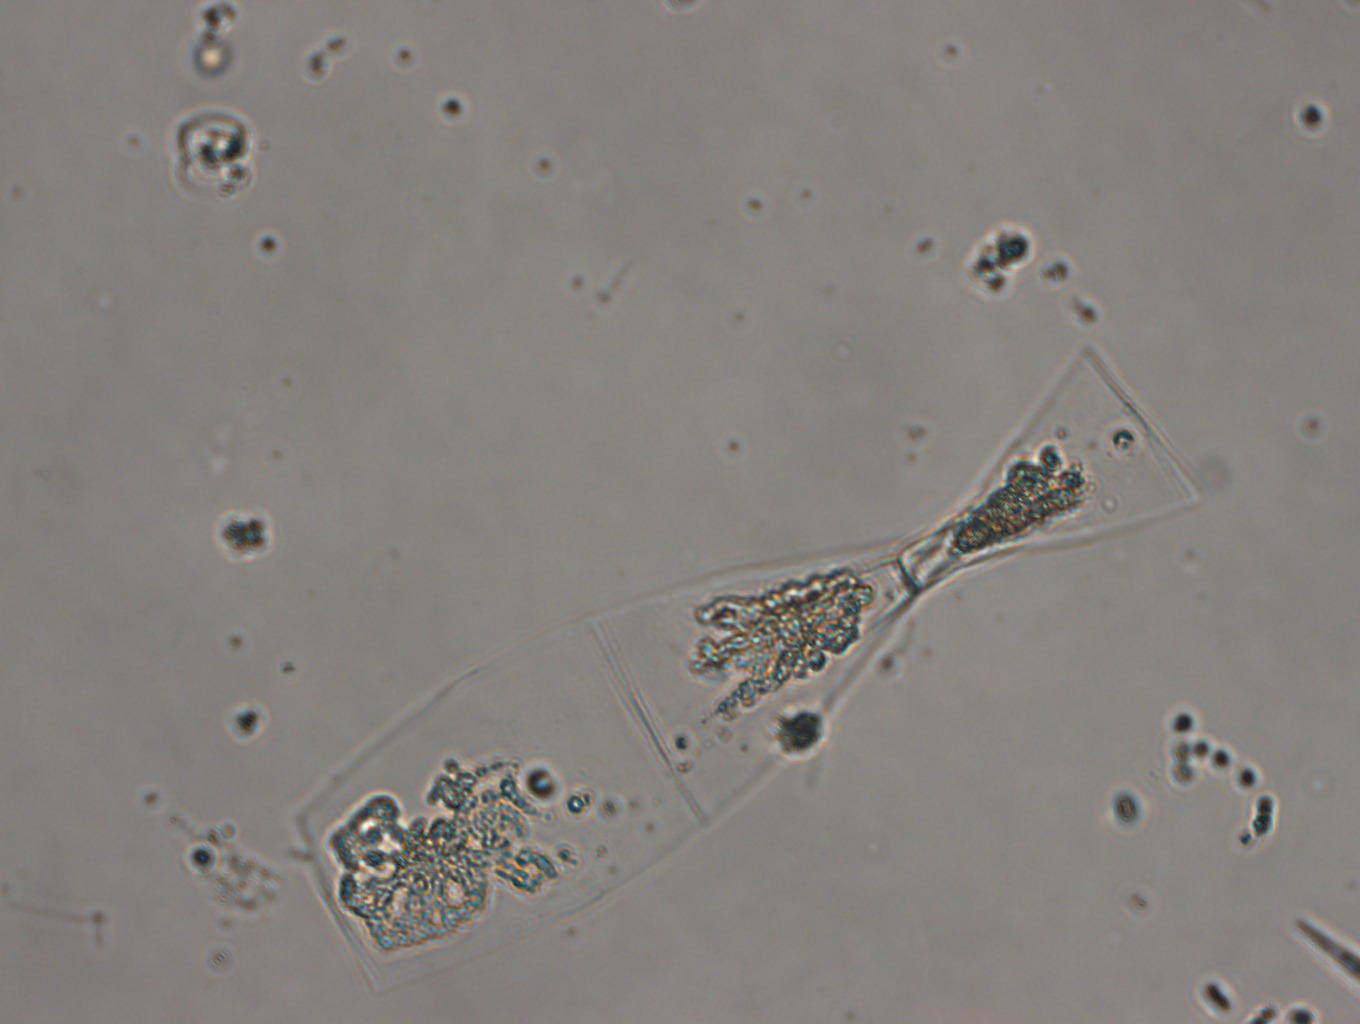helicotheca: (280, 347, 1199, 984)
